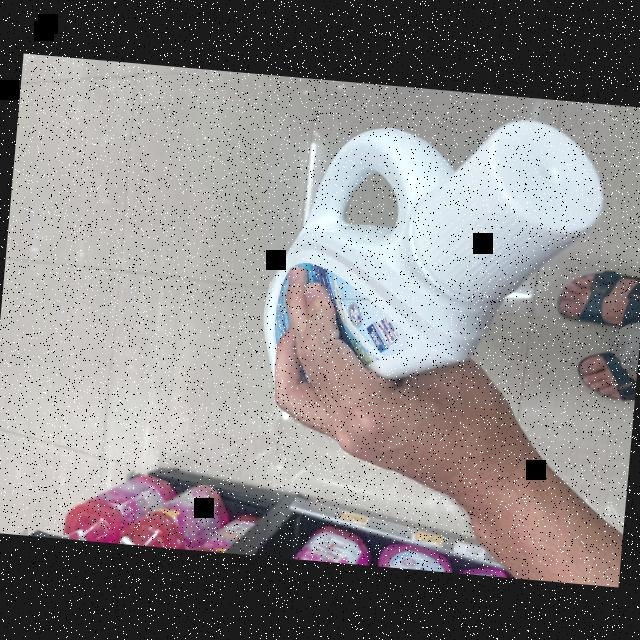chemical_plastic_gallon: (250, 88, 616, 430)
